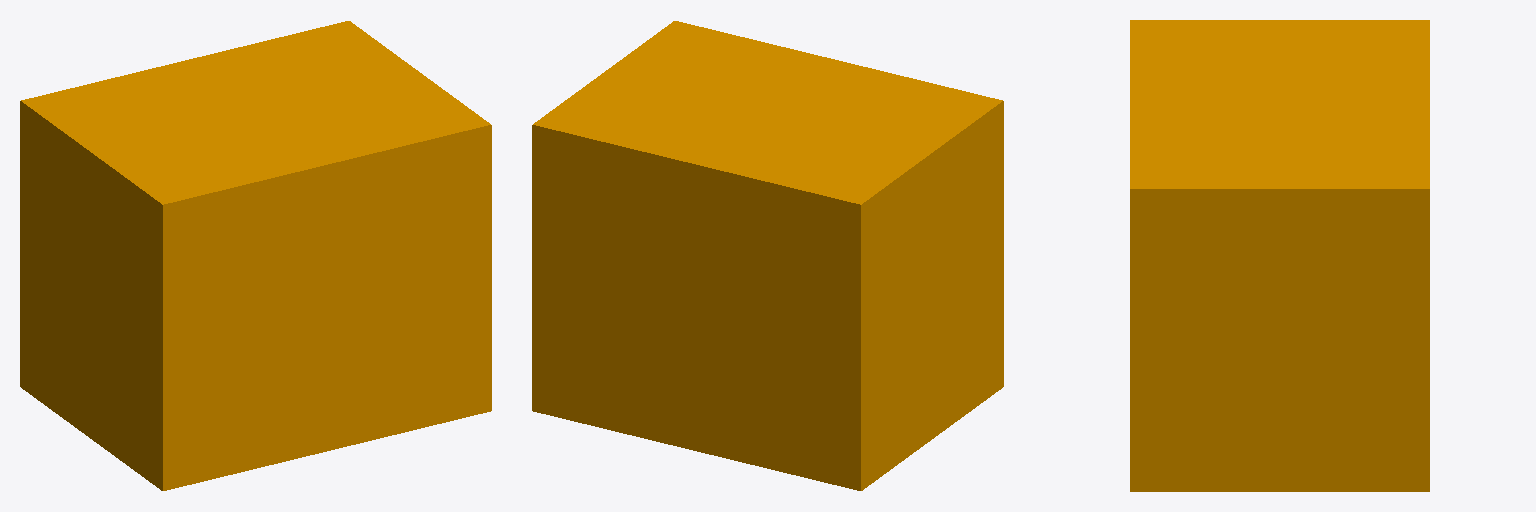
robot.urdf — object:
<robot name="object">
  <link name="object">
    <visual>
      <origin xyz="0 0 0" />
      <geometry>
        <box size="0.09600000000000003 0.07200000000000001 0.08" />
      </geometry>
    </visual>

    <collision>
      <origin xyz="0 0 0" />
      <geometry>
        <box size="0.09600000000000003 0.07200000000000001 0.08" />
      </geometry>
    </collision>

    <inertial>
      <mass value="0.05" />
      <inertia ixx="0.0001" ixy="0.0" ixz="0.0" iyy="0.0001" iyz="0.0" izz="0.0001" />
    </inertial>
  </link>
</robot>

--- Render facts (derived) ---
3 views of the same robot in one strip: view 1: azimuth 30°, elevation 25°; view 2: azimuth 150°, elevation 25°; view 3: azimuth 270°, elevation 25° (orthographic).
Model object with 1 links and 0 joints (none), rooted at object, posed every joint at zero.
Links seen in each view (by area): view 1: object; view 2: object; view 3: object.
Link boxes in pixels (x1,y1,x2,y2): object: (20, 21, 491, 490); object: (532, 21, 1003, 490); object: (1130, 20, 1429, 491).
Bounding box of the posed robot: 0.096 × 0.072 × 0.08 m (x, y, z).
Geometry: primitives only (box / cylinder / sphere), no mesh files.